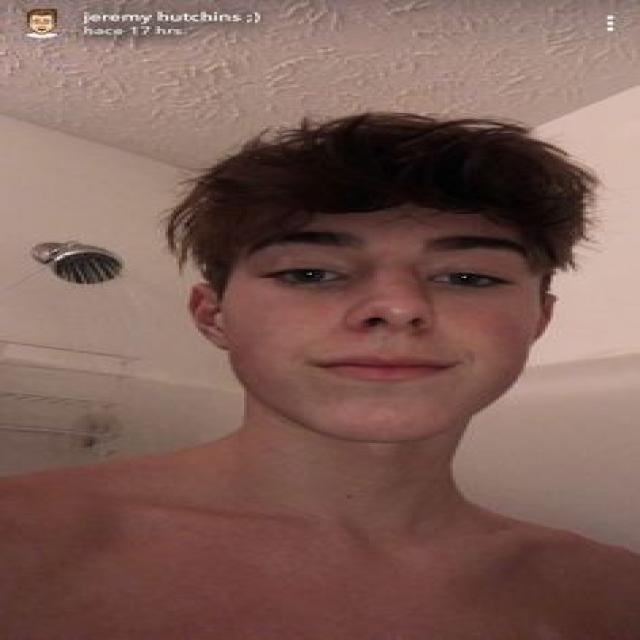earlobe: (205, 324, 234, 348)
eye: (261, 264, 351, 286), (428, 270, 511, 288)
nose: (350, 316, 446, 343)
wholeear: (186, 283, 233, 348)
